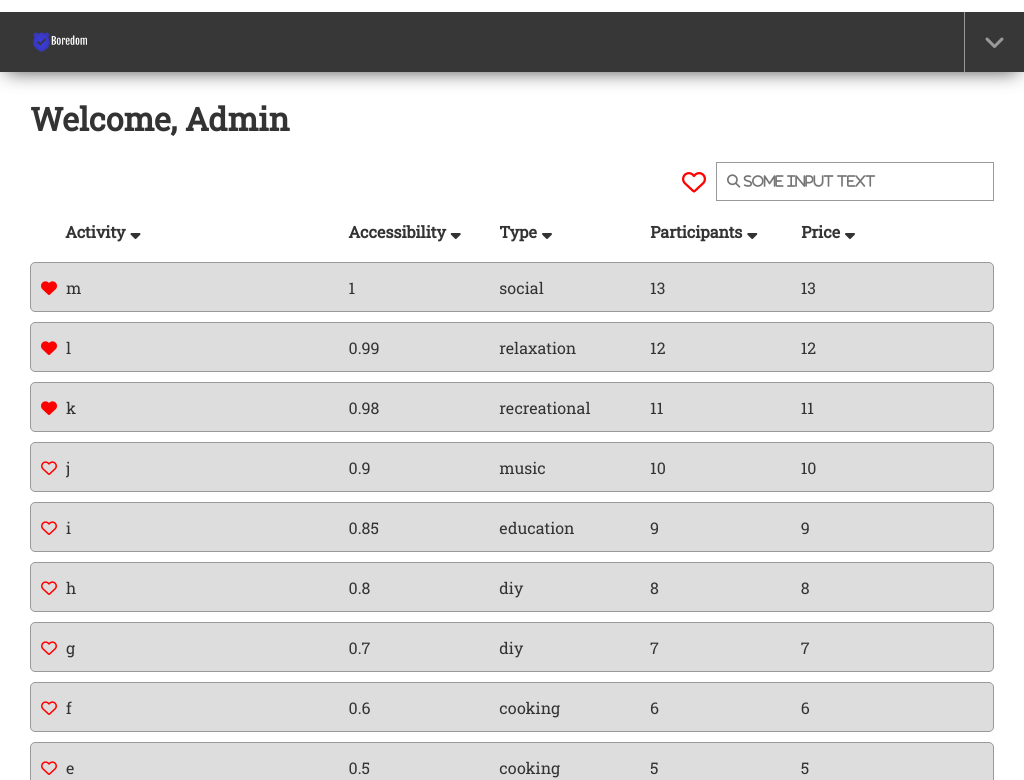
Test case: Activities Dashboard Page (Integration) › Filtering › Should show only the activity corresponding to the value in the search field
Step 1. Type "b" into the field with test id "filter-activity" → [855, 181], box [716,162,994,201]
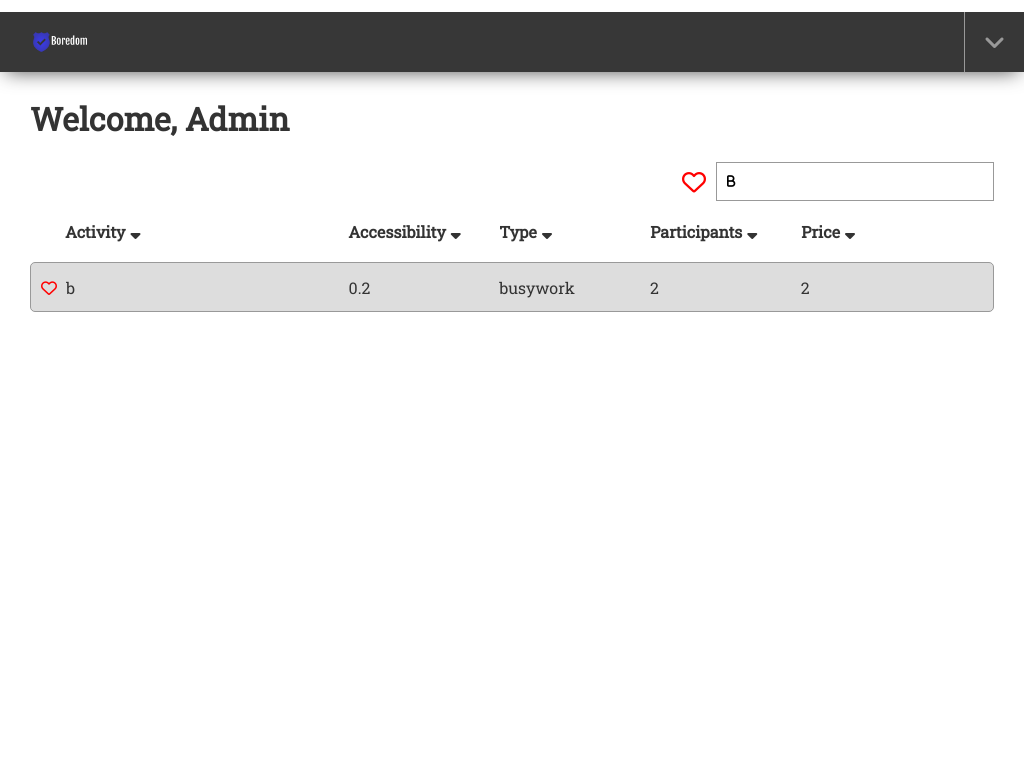
Now the number of elements with test id "list__item-container" is 1, box [30,262,994,312]
Now the text with test id "description" reads "b", box [66,277,75,298]
